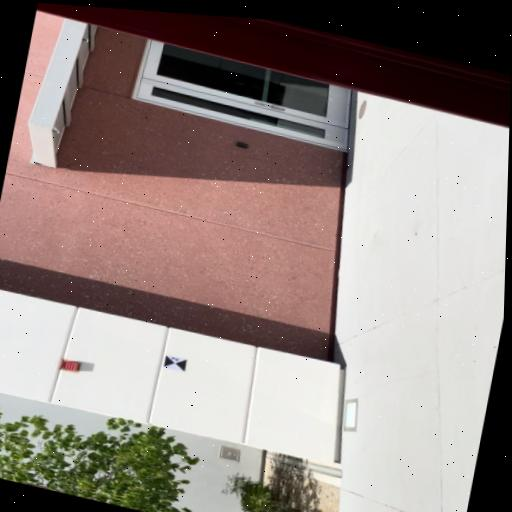target2: (162, 354, 187, 371)
